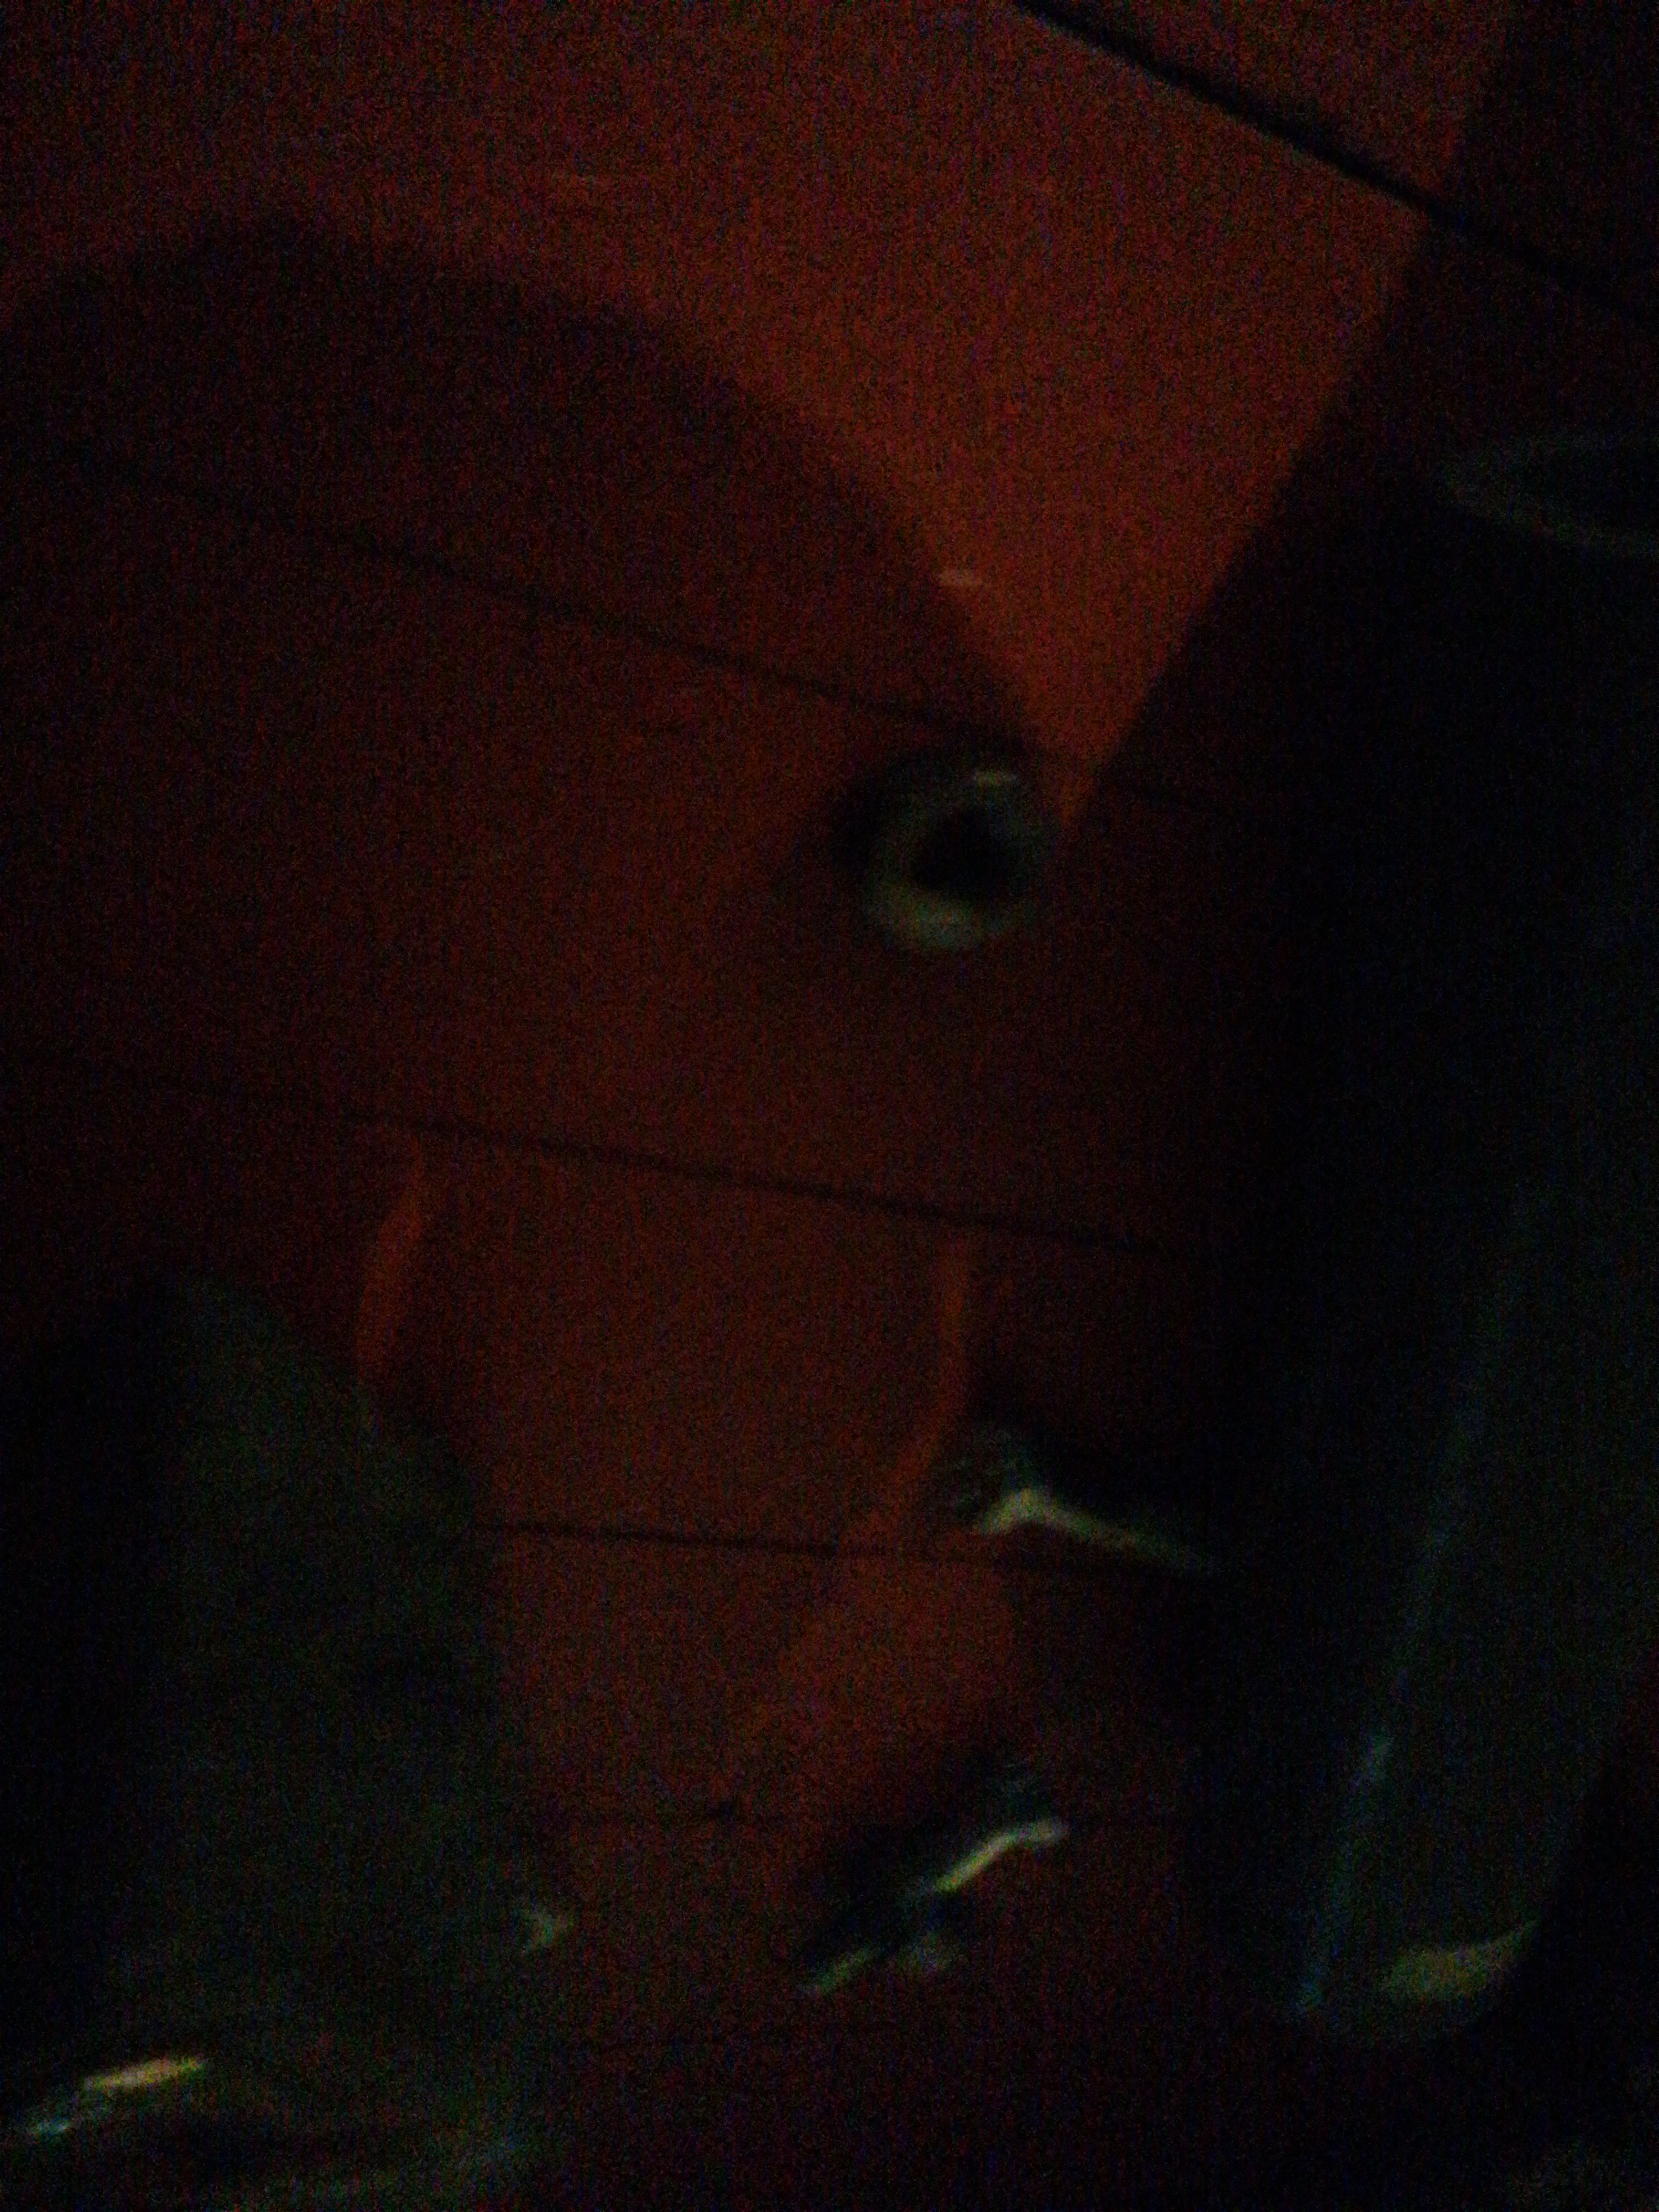bolt: (791, 1742, 1065, 2010), (945, 1425, 1218, 1580)
lead_block: (3, 1264, 558, 2205)
nut: (840, 738, 1044, 981), (850, 1836, 965, 2013)
pipe: (1168, 428, 1650, 2069)
